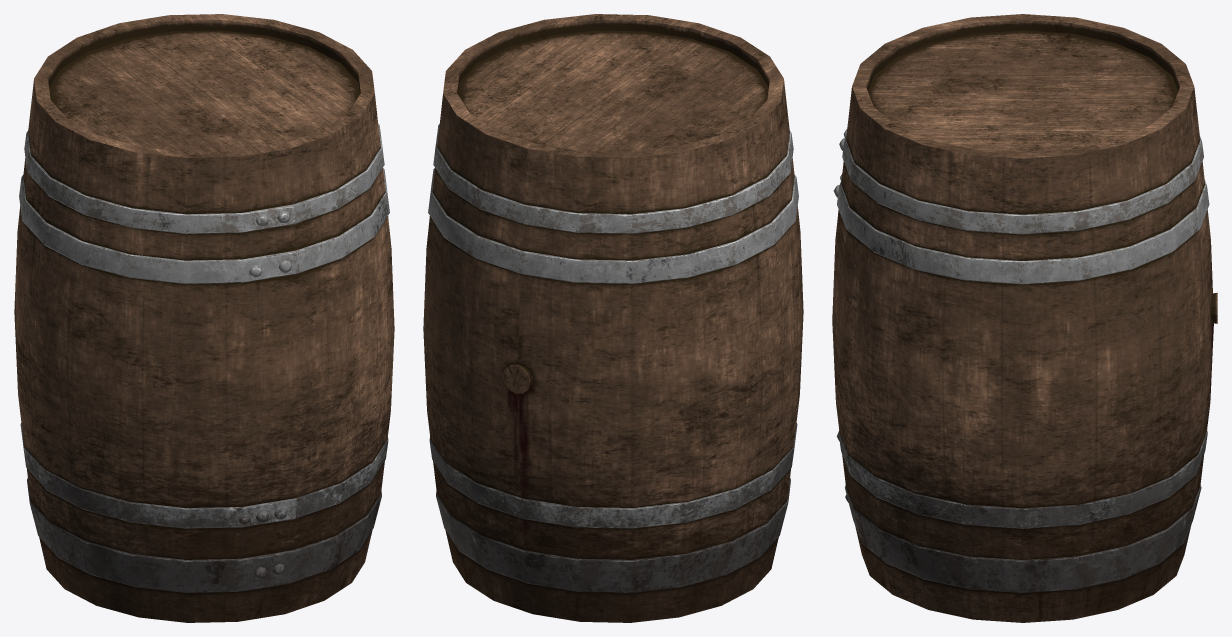
The model's file is Barrel_fbx.fbx.
The picture shows the model from 3 angles, left to right: view 1: azimuth 30°, elevation 25°; view 2: azimuth 150°, elevation 25°; view 3: azimuth 270°, elevation 25°; orthographic projection.
Visible parts, largest first — view 1: TonneGood; view 2: TonneGood; view 3: TonneGood.
Boxes of the visible parts, left/top/right/bottom form: TonneGood: left=14, top=14, right=394, bottom=622; TonneGood: left=423, top=14, right=803, bottom=622; TonneGood: left=832, top=14, right=1217, bottom=622.
Size of the model in its own units: 56.66 by 76.71 by 57.2.
1 material, 1 textured.
